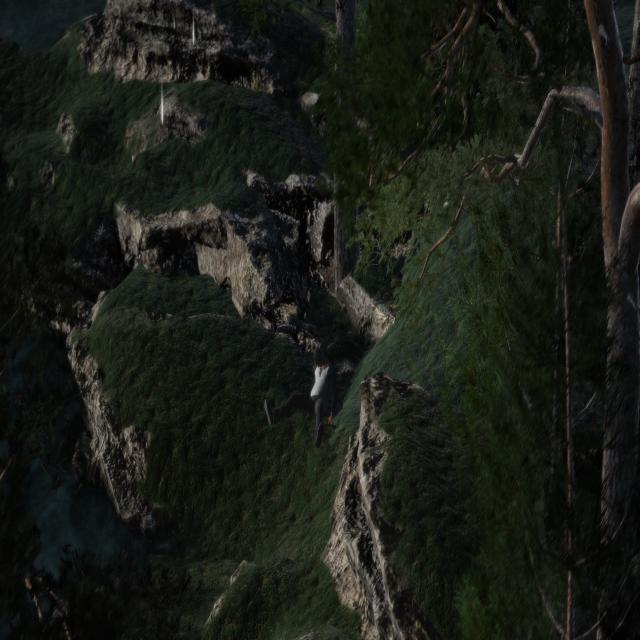Human: (259, 343, 341, 447)
